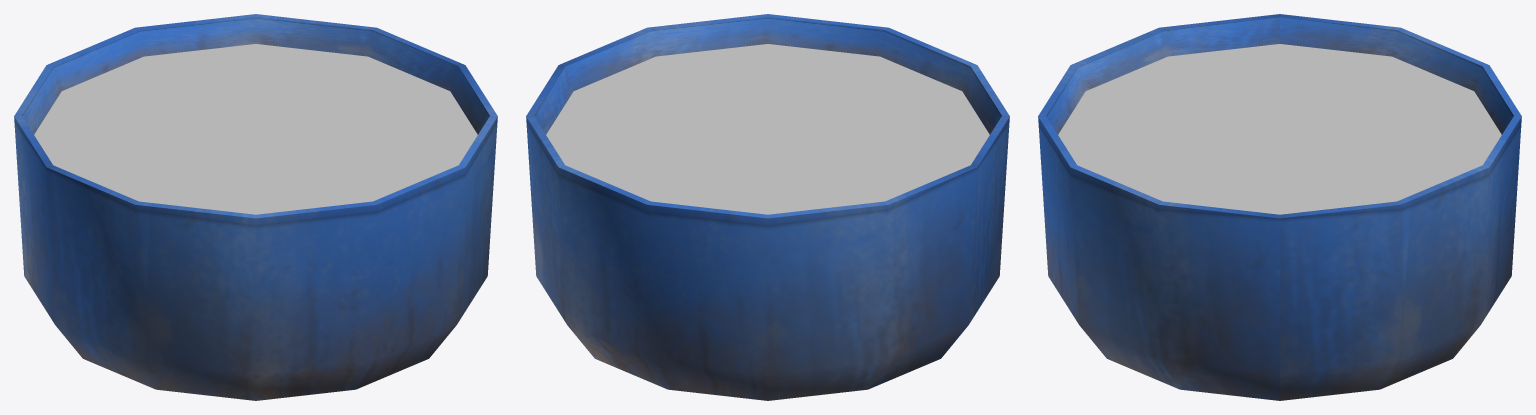
File: raisedBed_barrel04.fbx
The picture shows the model from 3 angles, left to right: view 1: azimuth 30°, elevation 25°; view 2: azimuth 150°, elevation 25°; view 3: azimuth 270°, elevation 25°; orthographic projection.
Visible parts, largest first — view 1: raisedBed_barrel04; view 2: raisedBed_barrel04; view 3: raisedBed_barrel04.
Part boxes in pixels (x1=…): raisedBed_barrel04: x1=14, y1=14, x2=497, y2=400; raisedBed_barrel04: x1=526, y1=14, x2=1009, y2=400; raisedBed_barrel04: x1=1038, y1=14, x2=1521, y2=400.
Bounding box in the file's own units: 61.65 × 28.22 × 61.65.
